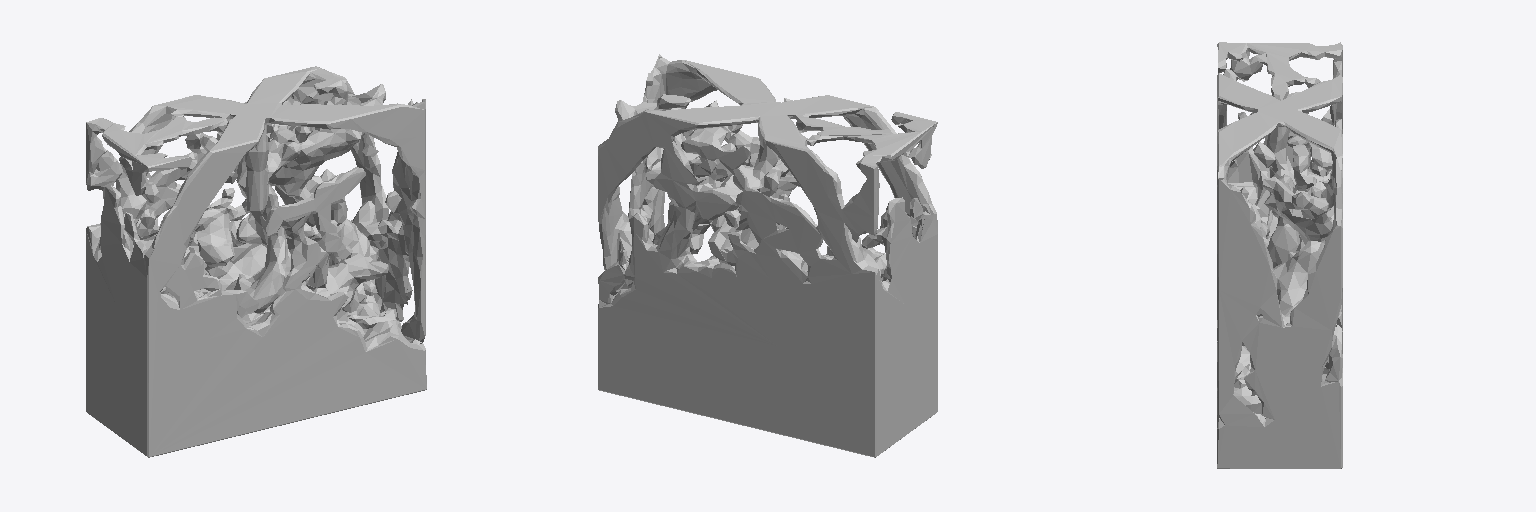
3 views of the same model, side by side, from view 1: azimuth 30°, elevation 25°; view 2: azimuth 150°, elevation 25°; view 3: azimuth 270°, elevation 25° (orthographic).
Visible parts, largest first — view 1: Liquid_Domain; view 2: Liquid_Domain; view 3: Liquid_Domain.
Part boxes in pixels (left/top/right/bottom): Liquid_Domain: left=86, top=66, right=426, bottom=457; Liquid_Domain: left=598, top=54, right=937, bottom=457; Liquid_Domain: left=1217, top=42, right=1342, bottom=468.
Bounding box in the file's own units: 885 × 884 × 345.